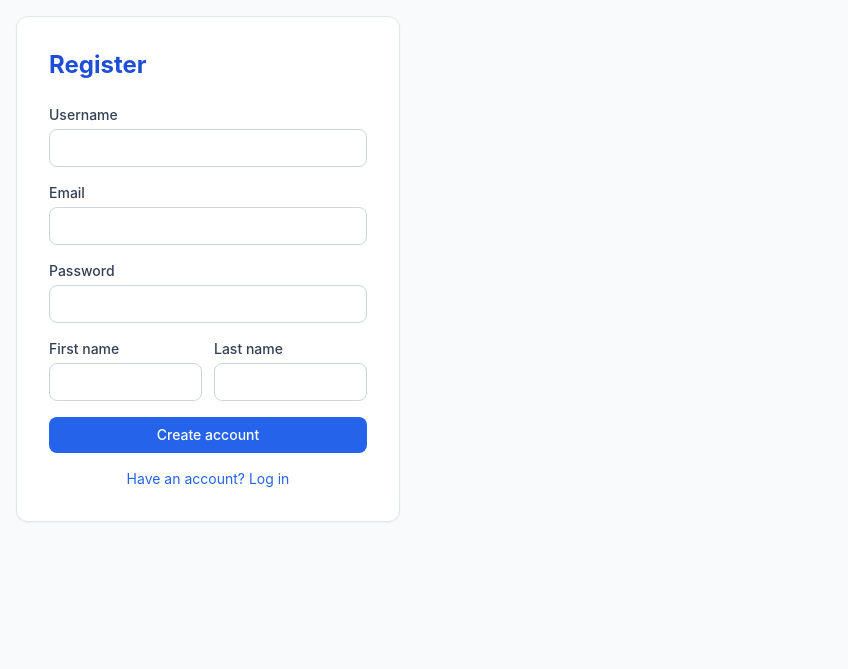
Register form › shows error toast on duplicate username
In the field labelled "Username": (208, 148) [49,129,367,167], type "taken"
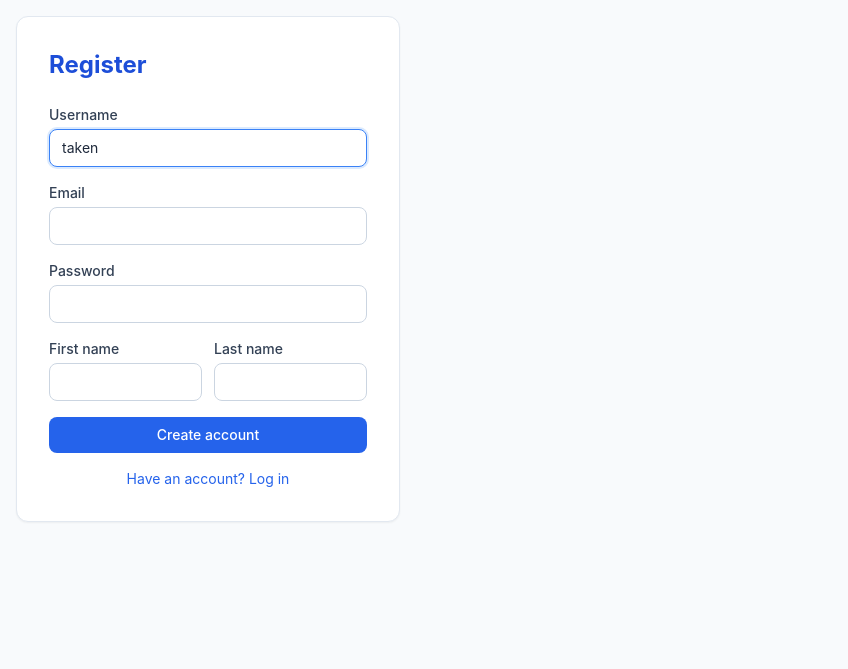
In the field labelled "Email": (208, 226) [49,207,367,245], type "x@pms.local"
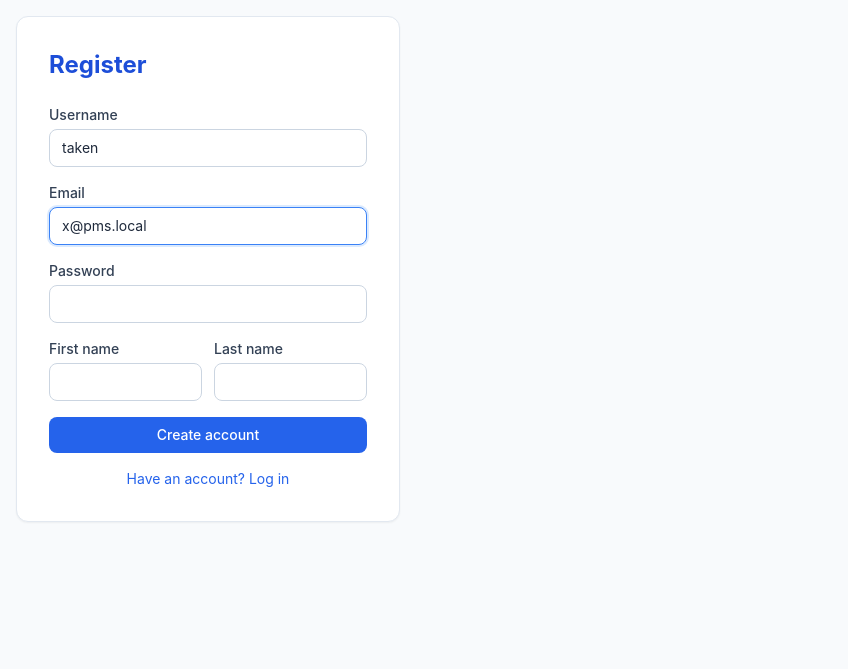
In the password field labelled "Password": (208, 304) [49,285,367,323], type "validpass1"
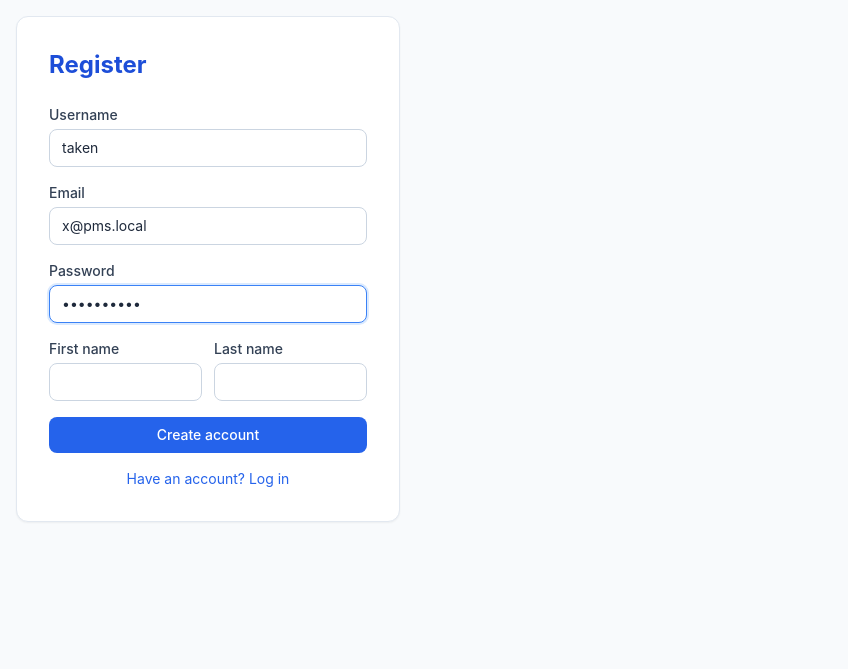
Click the button "Create account": (208, 435) [49,417,367,453]
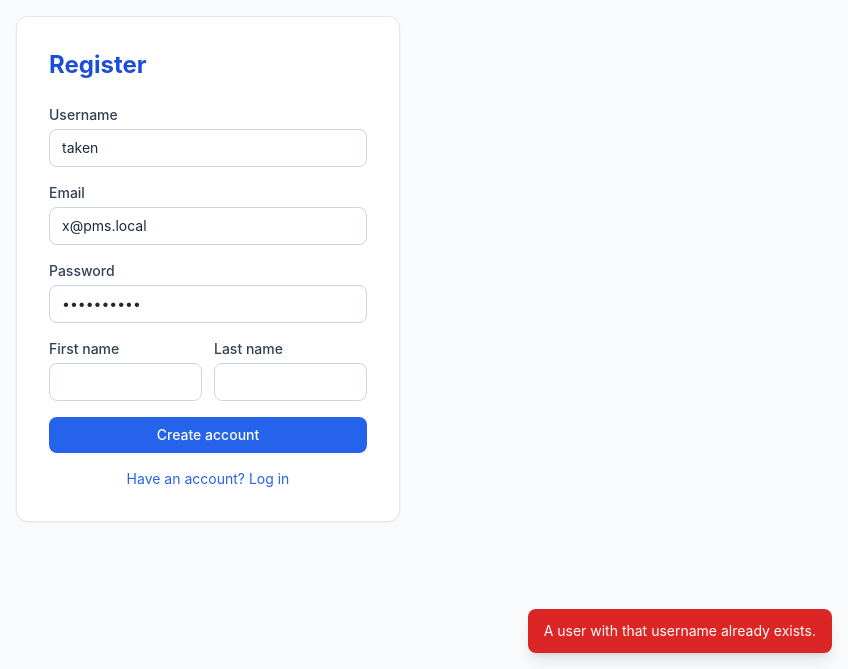
Expected: the text "A user with that username already exists." is shown, [528,609,832,653]
